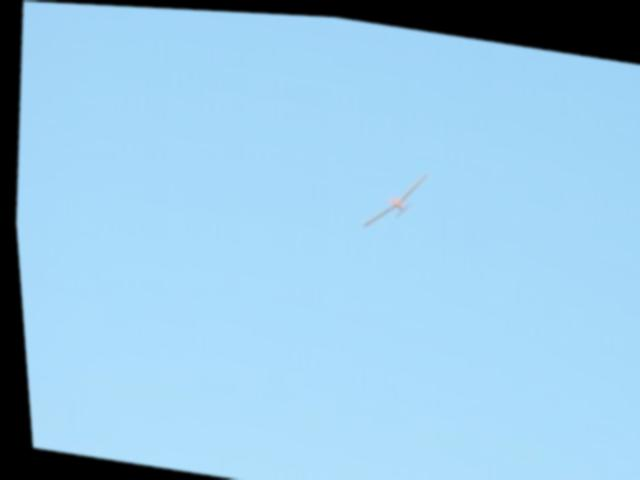iha: (358, 161, 428, 233)
